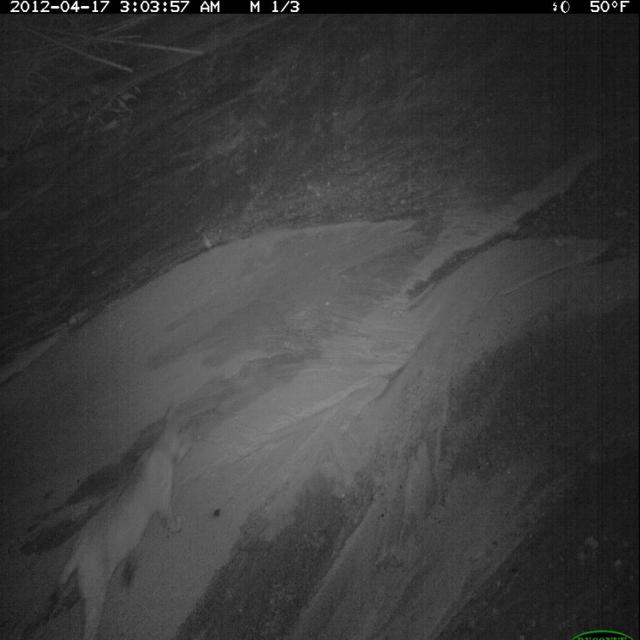bobcat: (47, 402, 197, 640)
